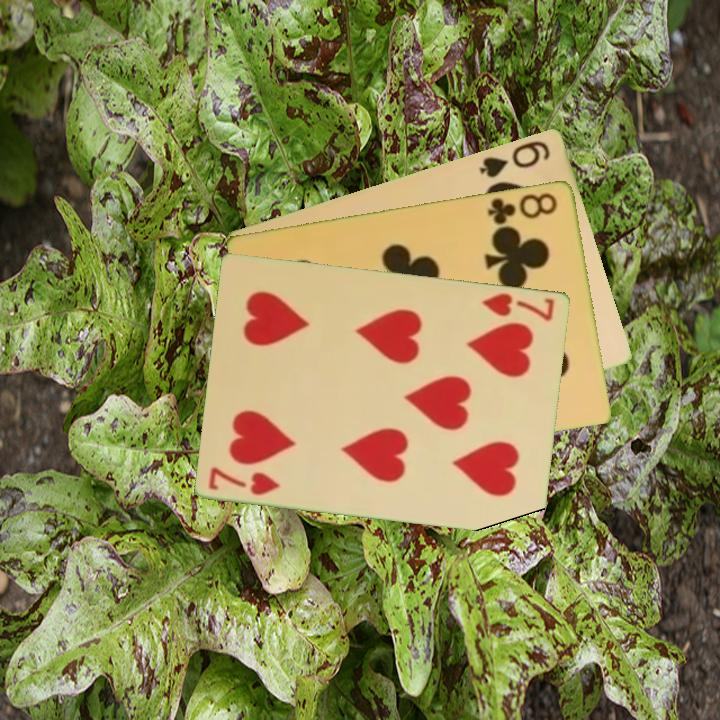6s: (476, 136, 554, 180)
7h: (479, 289, 558, 324), (205, 463, 283, 498)
8c: (484, 188, 561, 227)
